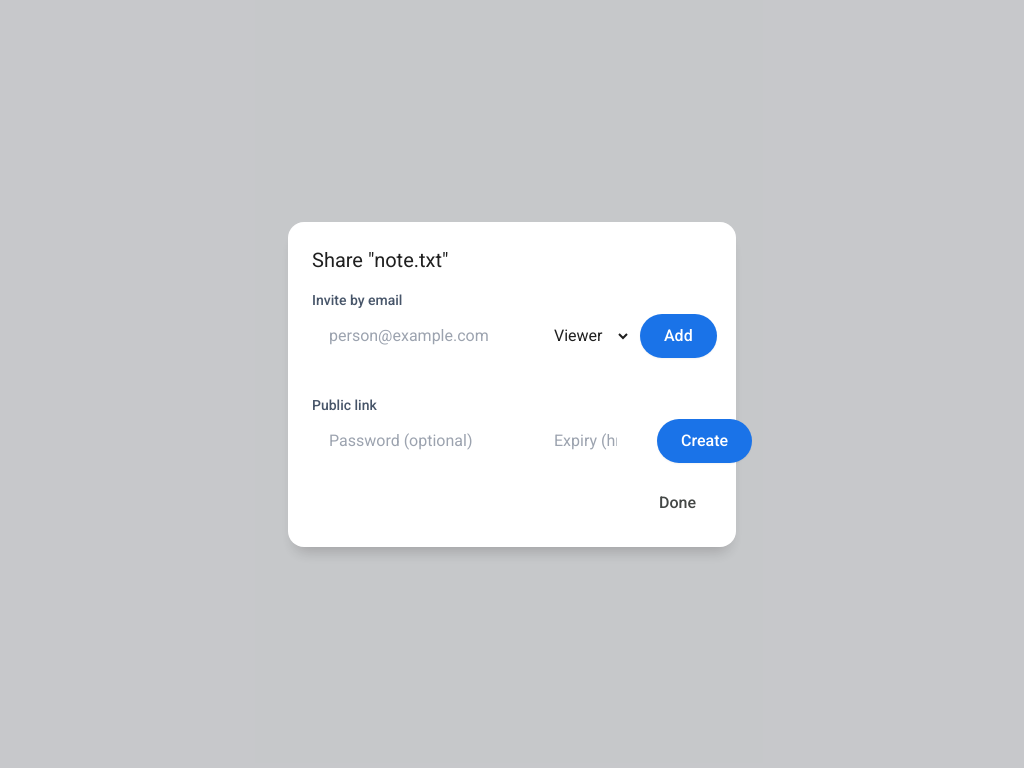
Test case: adds a share by email
Step 1. Type "bob@example.com" into the field named "Grantee email" → (420, 336), box x1=312 y1=314 x2=529 y2=358
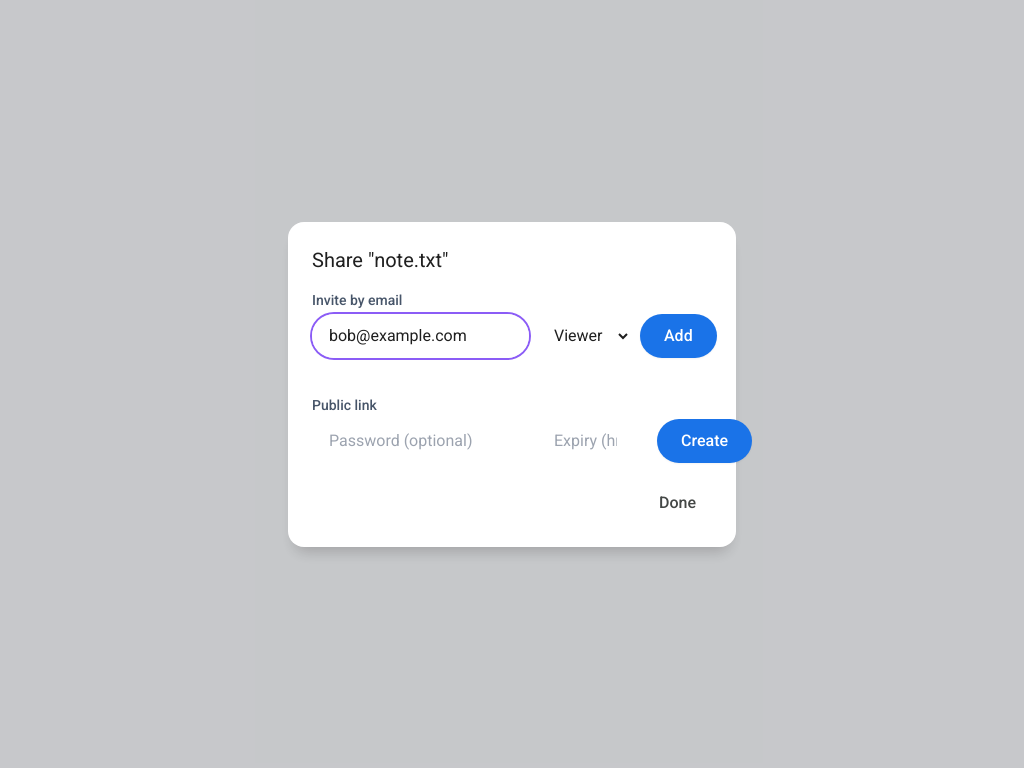
Step 2. Click the button "Add" → (678, 336), box x1=640 y1=314 x2=717 y2=358
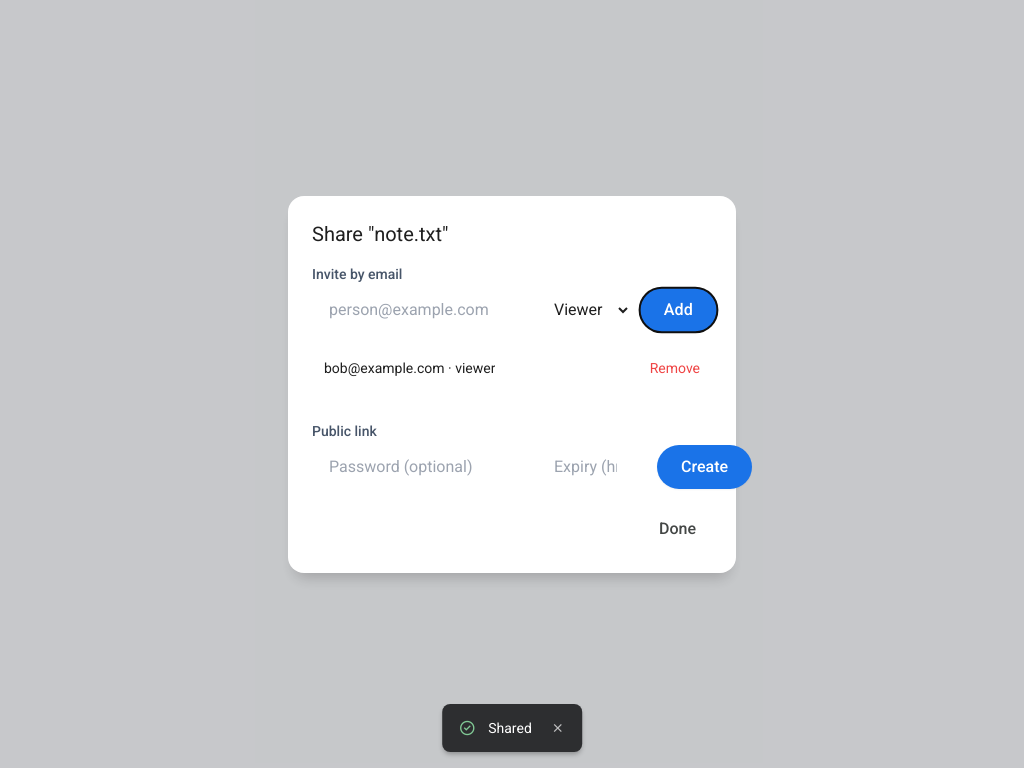
Expected: the text "bob@example.com · viewer" is shown, x1=324 y1=358 x2=495 y2=378
